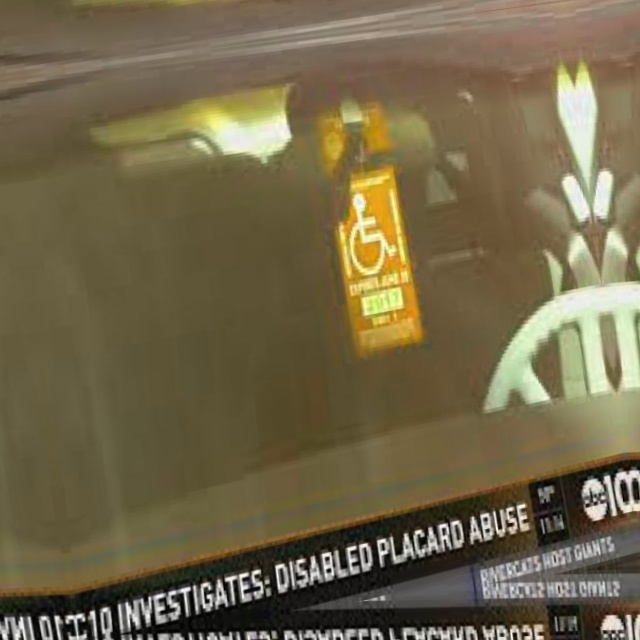ISA: (340, 183, 406, 292)
